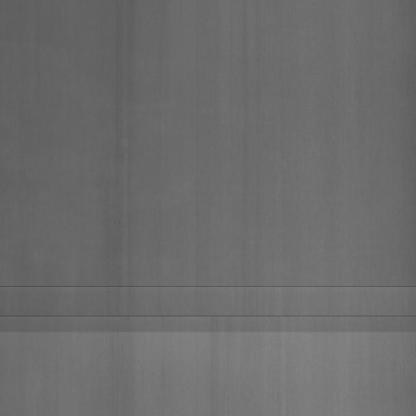welding_line: (0, 306, 416, 335), (0, 276, 416, 298)
